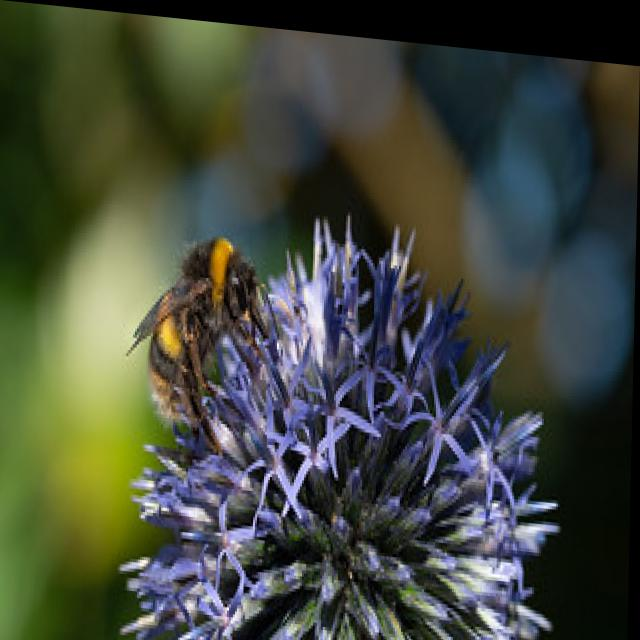Abeille: (140, 207, 271, 453)
